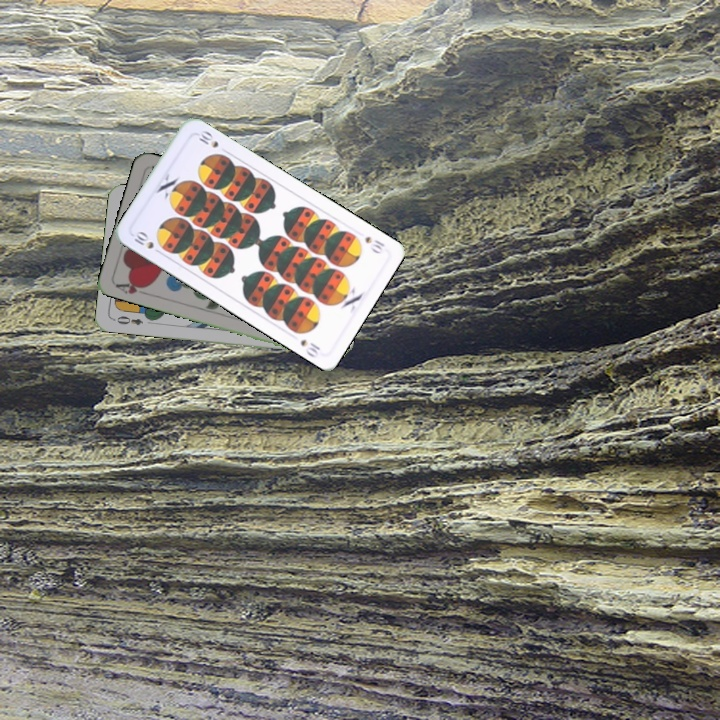EO: (109, 312, 145, 328)
HA: (112, 276, 152, 298)
S10: (130, 227, 165, 257), (361, 232, 387, 257)
